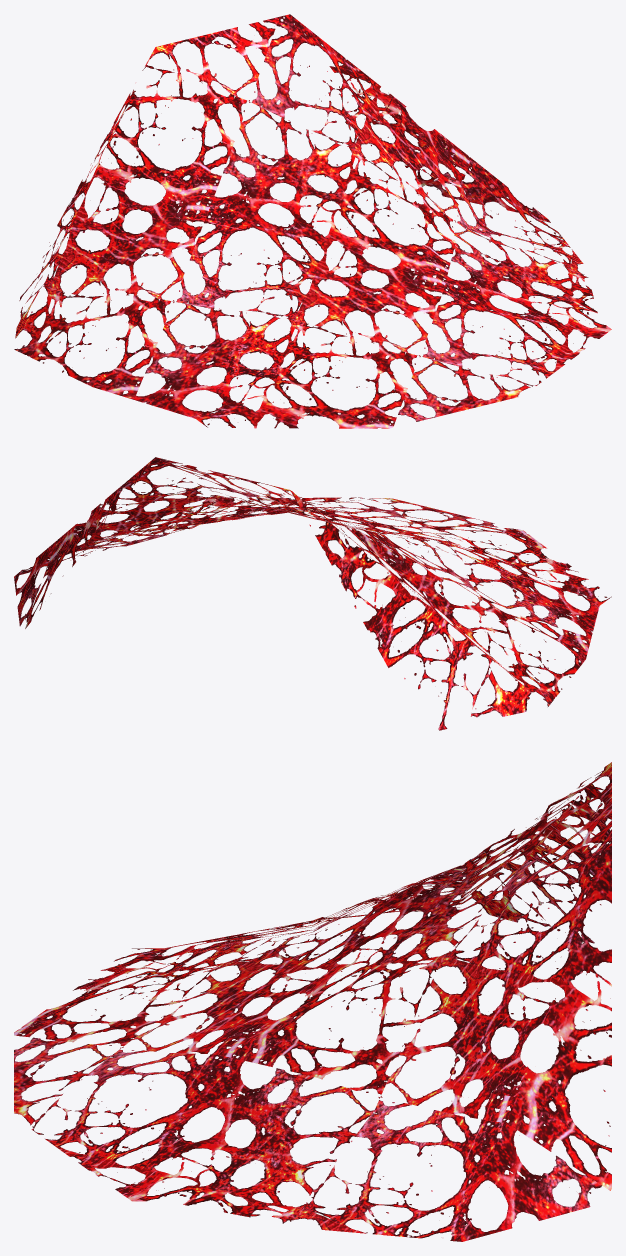
File: Meatbiomefleshweb1.fbx
3 views of the same model, one above another, from view 1: azimuth 30°, elevation 25°; view 2: azimuth 150°, elevation 25°; view 3: azimuth 270°, elevation 25° (orthographic). The views are drawn at different scales.
Visible parts, largest first — view 1: Plane.002; view 2: Plane.002; view 3: Plane.002.
Part boxes in pixels (left/top/right/bottom): Plane.002: left=14, top=14, right=611, bottom=428; Plane.002: left=14, top=457, right=611, bottom=730; Plane.002: left=14, top=762, right=611, bottom=1241.
Size of the model in its own units: 311 by 117 by 235.
